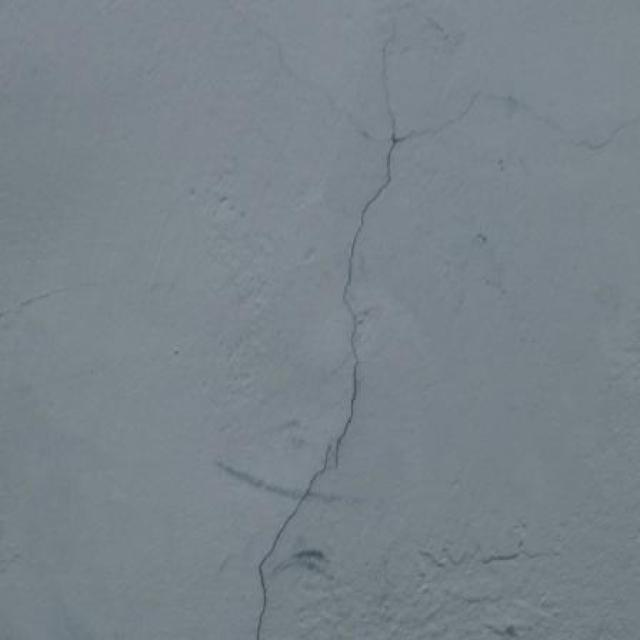Crack: (242, 83, 434, 640)
